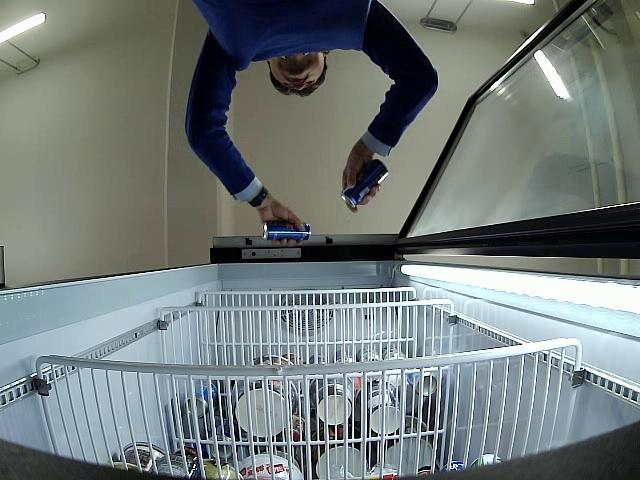00_hand: (342, 152, 381, 213), (260, 202, 303, 247)
16_hot6: (343, 160, 389, 212), (263, 222, 311, 239)
